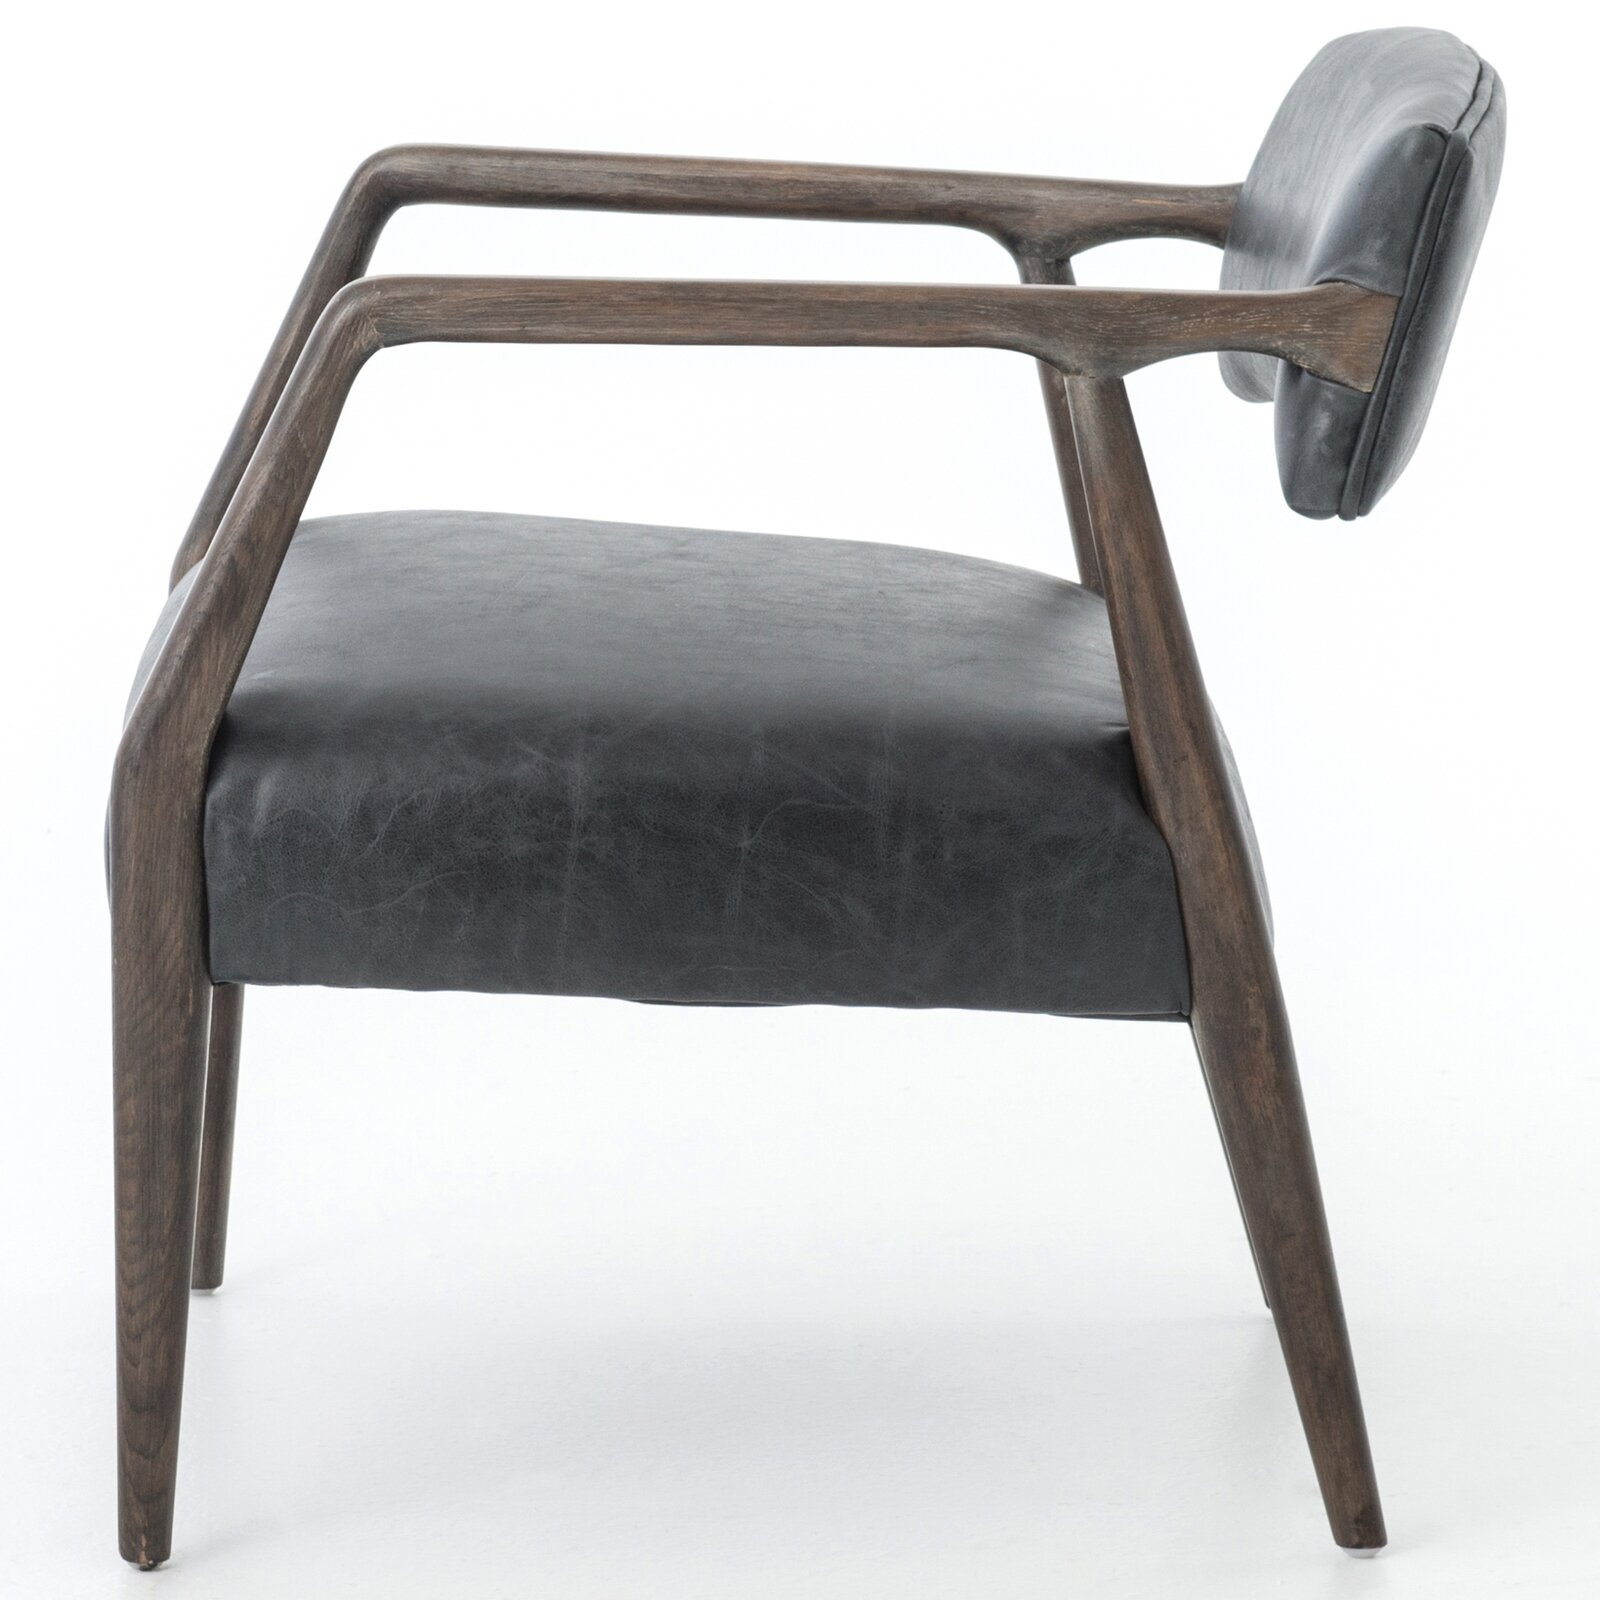obstacle: (108, 29, 1503, 1566)
